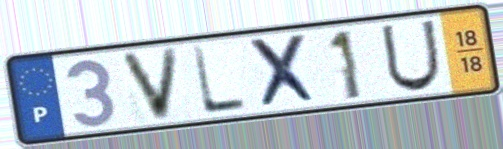1: (325, 26, 365, 102)
3: (63, 55, 119, 130)
L: (188, 44, 250, 117)
U: (378, 18, 444, 95)
V: (116, 44, 183, 125)
X: (244, 32, 324, 112)
